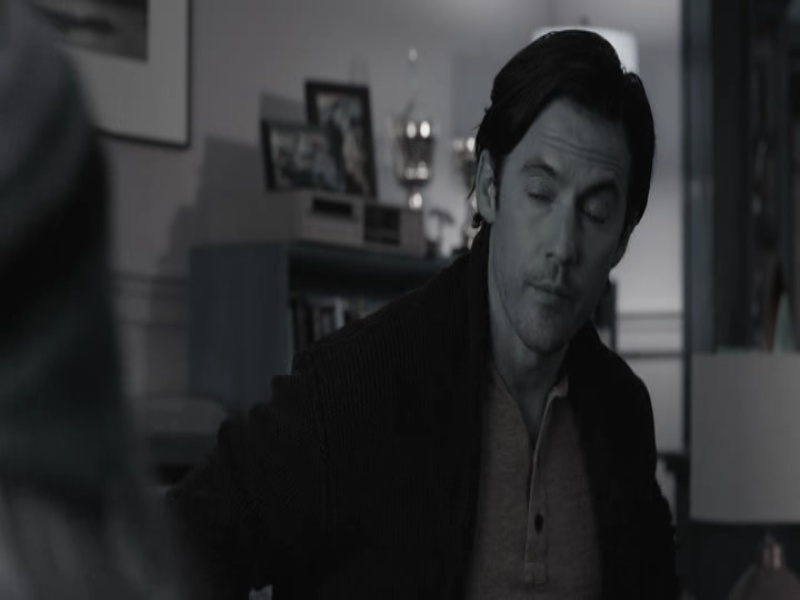TsisyArotava: (480, 71, 640, 367)
